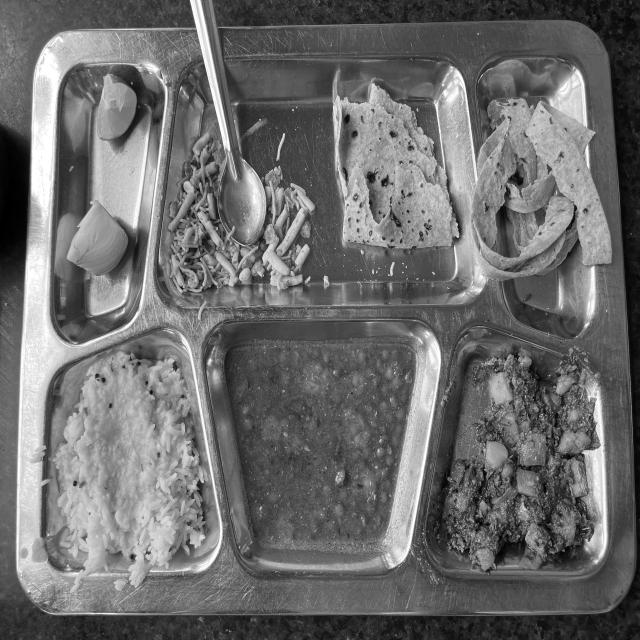100.1- Food Left: (42, 41, 616, 586)
